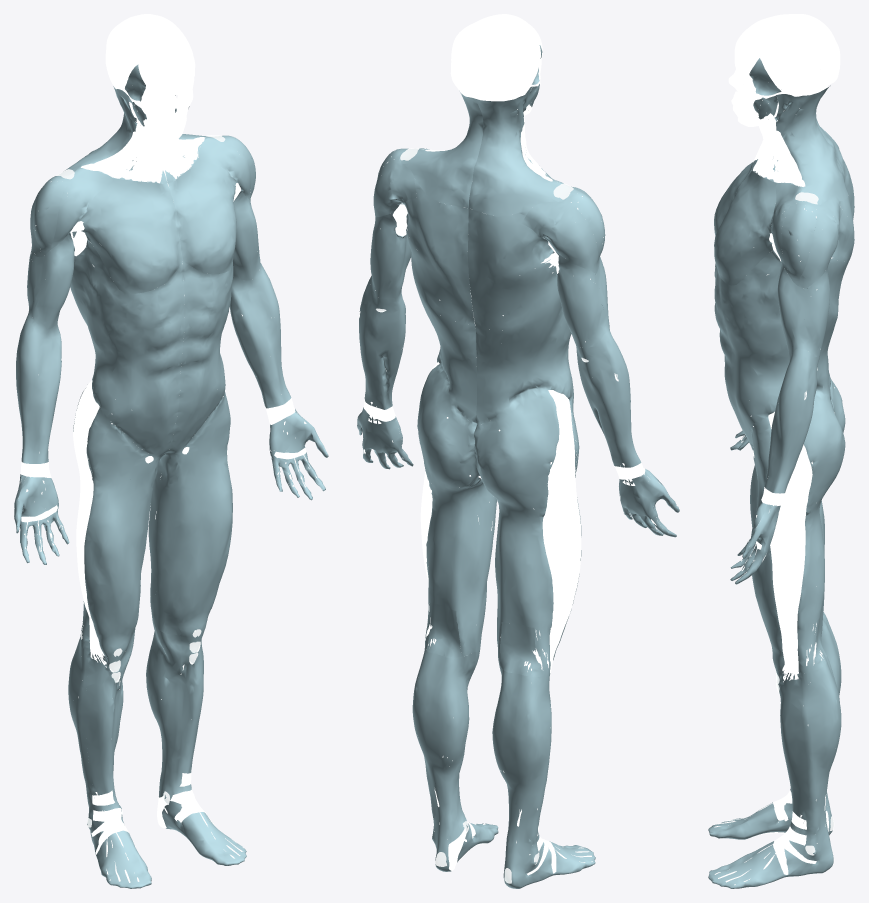
File: muscles.mobile-lod1.v1.glb
3 views of the same model, side by side, from view 1: azimuth 30°, elevation 25°; view 2: azimuth 150°, elevation 25°; view 3: azimuth 270°, elevation 25° (orthographic). The views are drawn at different scales.
Parts seen in each view (by area): view 1: Investing abdominal fascia.r, Fascia lata.l, Fascia lata.r, Crural fascia.l, Crural fascia.r, Pectoral fascia.r, Investing abdominal fascia.l, Pectoral fascia.l, Antebrachial fascia.r, Antebrachial fascia.l, Deltoid fascia.r, Brachial fascia.r (+13 smaller); view 2: Investing abdominal fascia.r, Fascia lata.r, Fascia lata.l, Crural fascia.r, Investing abdominal fascia.l, Crural fascia.l, Superficial investing cervical fascia.r, Iliotibial tract.r, Antebrachial fascia.r, Antebrachial fascia.l, Deltoid fascia.r, Superficial investing cervical fascia.l (+11 smaller); view 3: Investing abdominal fascia.l, Crural fascia.l, Fascia lata.l, Iliotibial tract.l, Deltoid fascia.l, Pectoral fascia.l, Superficial investing cervical fascia.l, Antebrachial fascia.l, Brachial fascia.l, Epicranial aponeurosis.l, Crural fascia.r, Temporoparietalis muscle.l (+13 smaller).
Part boxes in pixels (box(x1,y1,x2,y2)): Investing abdominal fascia.r: box(70, 239, 184, 456); Fascia lata.l: box(148, 392, 232, 637); Fascia lata.r: box(73, 388, 165, 658); Crural fascia.l: box(146, 621, 246, 865); Crural fascia.r: box(68, 637, 151, 888); Pectoral fascia.r: box(78, 178, 182, 294); Investing abdominal fascia.l: box(167, 262, 233, 452); Pectoral fascia.l: box(168, 158, 237, 274); Antebrachial fascia.r: box(16, 315, 61, 463); Antebrachial fascia.l: box(230, 263, 291, 408); Deltoid fascia.r: box(30, 169, 113, 257); Brachial fascia.r: box(27, 232, 74, 329); Investing abdominal fascia.r: box(467, 206, 573, 425); Fascia lata.r: box(474, 388, 581, 676); Fascia lata.l: box(417, 363, 496, 656); Crural fascia.r: box(492, 665, 595, 888); Investing abdominal fascia.l: box(400, 177, 476, 424); Crural fascia.l: box(412, 648, 498, 871); Superficial investing cervical fascia.r: box(469, 86, 570, 216); Iliotibial tract.r: box(542, 390, 581, 676); Antebrachial fascia.r: box(575, 329, 641, 467); Antebrachial fascia.l: box(359, 276, 405, 409); Deltoid fascia.r: box(521, 173, 605, 273); Superficial investing cervical fascia.l: box(399, 92, 483, 208); Investing abdominal fascia.l: box(714, 195, 854, 447); Crural fascia.l: box(708, 656, 841, 888); Fascia lata.l: box(751, 388, 845, 673); Iliotibial tract.l: box(768, 411, 812, 682); Deltoid fascia.l: box(771, 182, 843, 288); Pectoral fascia.l: box(714, 171, 776, 285); Superficial investing cervical fascia.l: box(752, 85, 848, 205); Antebrachial fascia.l: box(764, 348, 819, 493); Brachial fascia.l: box(777, 261, 829, 357); Epicranial aponeurosis.l: box(738, 18, 840, 77); Crural fascia.r: box(708, 618, 841, 839); Temporoparietalis muscle.l: box(759, 46, 821, 96).
Bounding box in the file's own units: 0.6715 × 1.7 × 0.2685.
